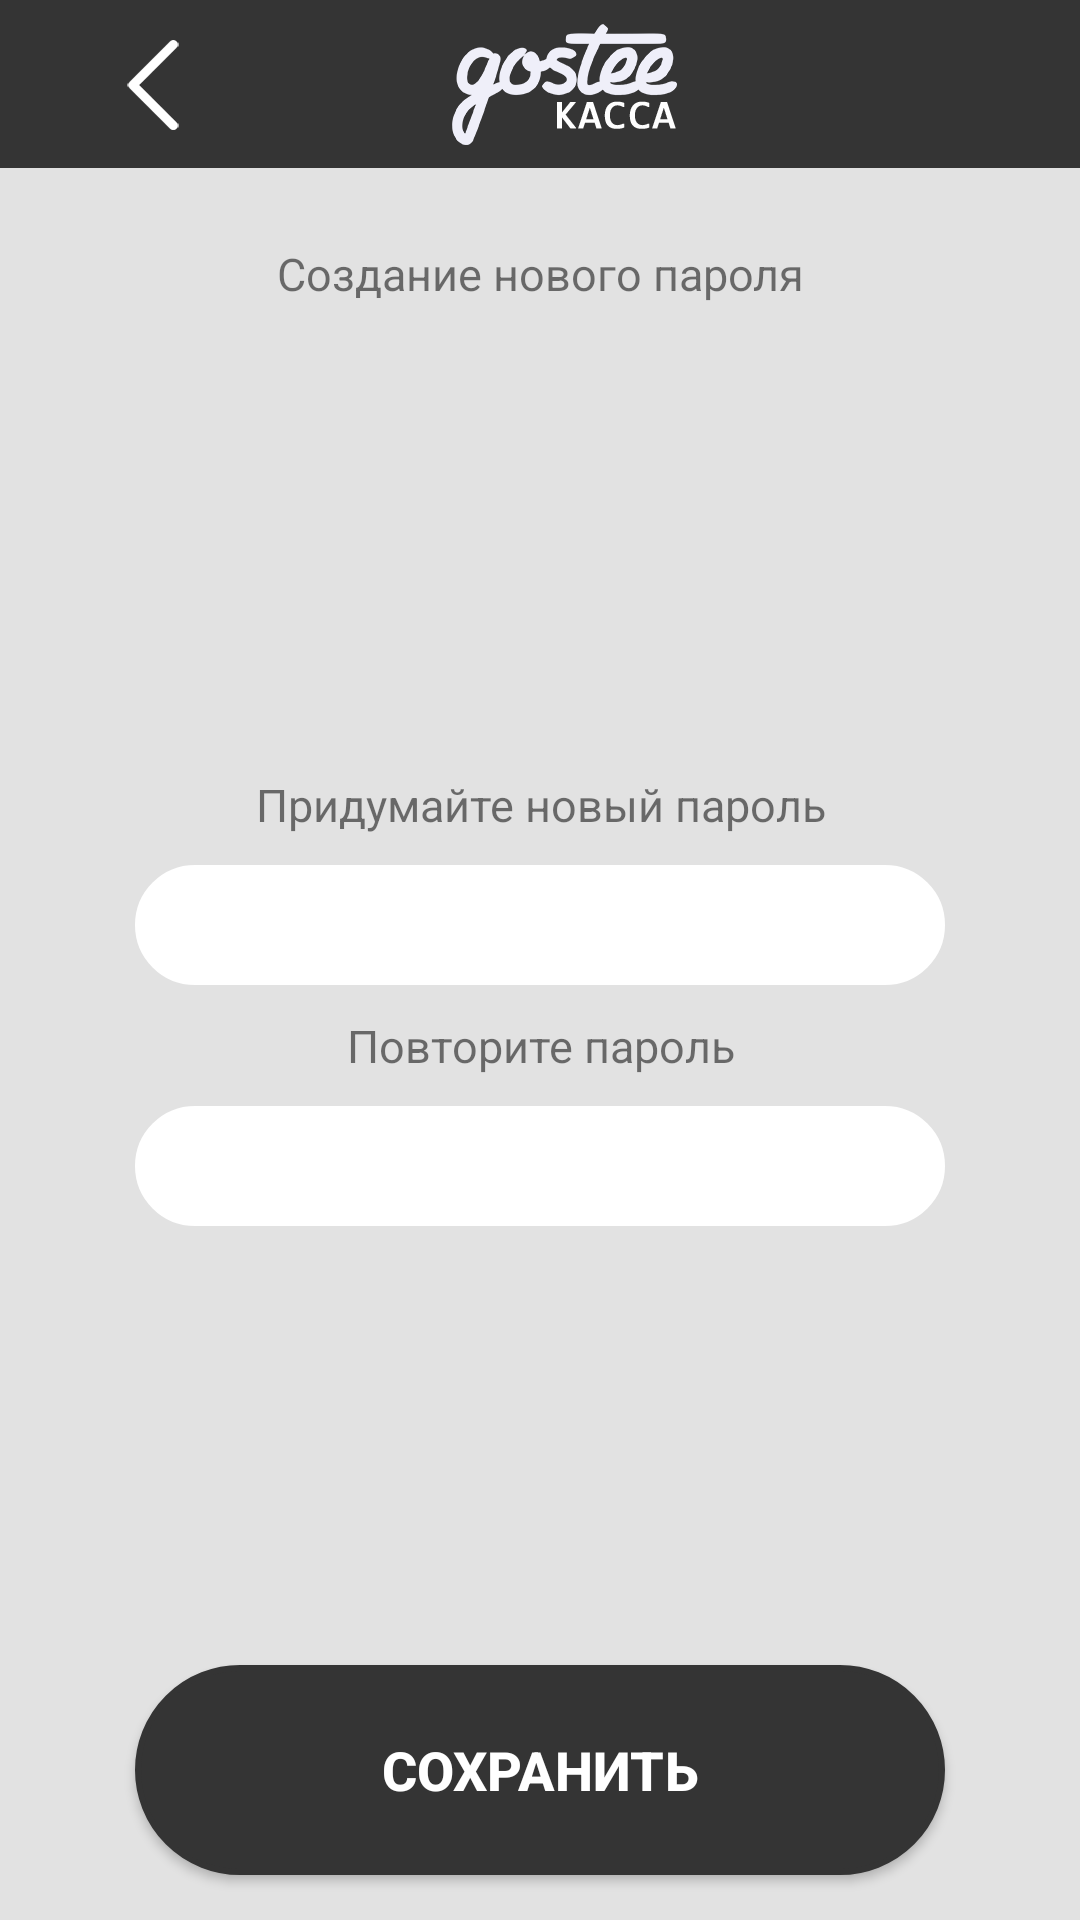

Point at icon controls on the screen. Image size 1080 × 1920, points as (x,y).
back: (153,85)
